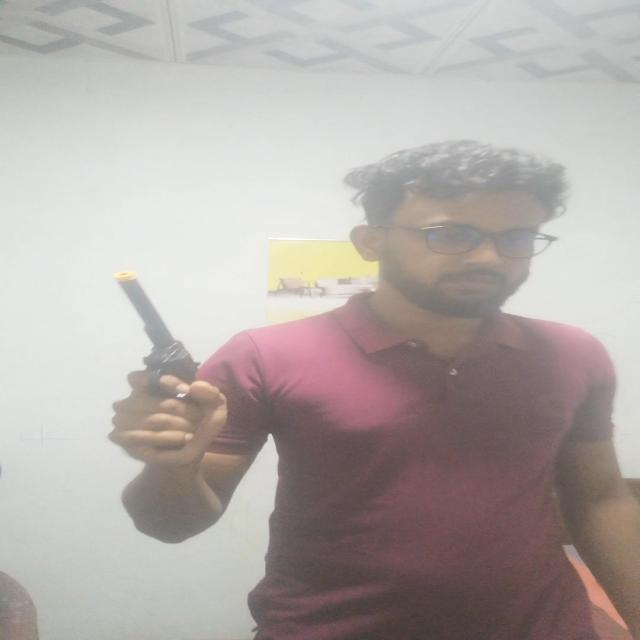Gun_Holder: (76, 271, 240, 442)
Person: (95, 141, 640, 640)
